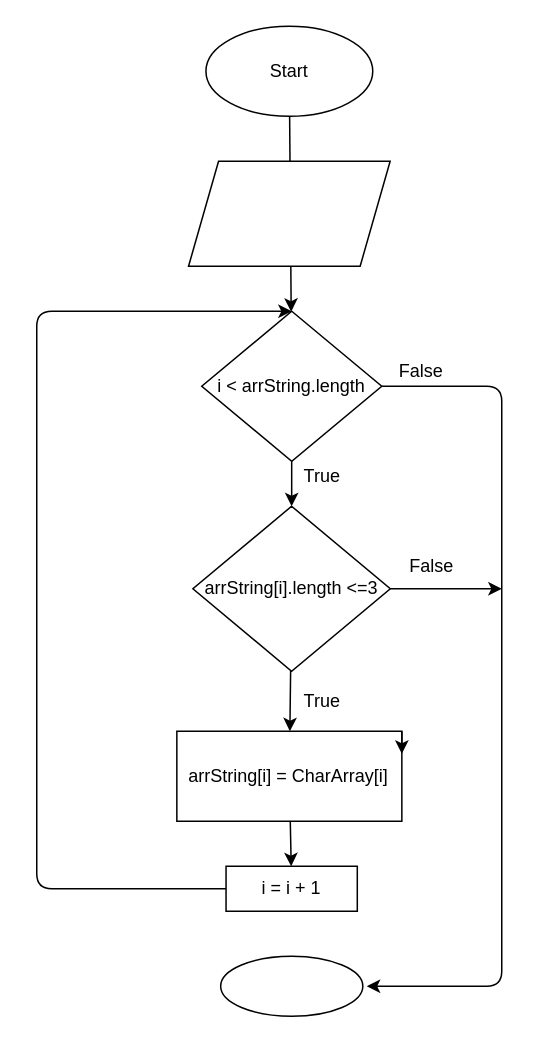
This 540x1043 diagram has some shape labels left out. The shapes that lost their labels are listed below. From the top down, each one's box as (x1, y1, x2, y2) in pixels, then its label:
(187, 160, 390, 266): arr = arrString[] i = 0 len = length(arr) res = CharArray[0]
(219, 955, 363, 1016): End
